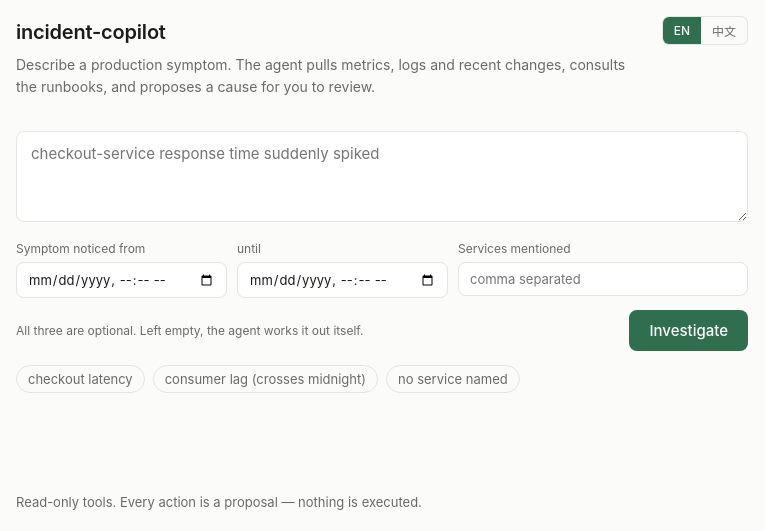
Test case: App › switches language and remembers the choice
Click the button "中文": (724, 30) left=701, top=17, right=747, bottom=44
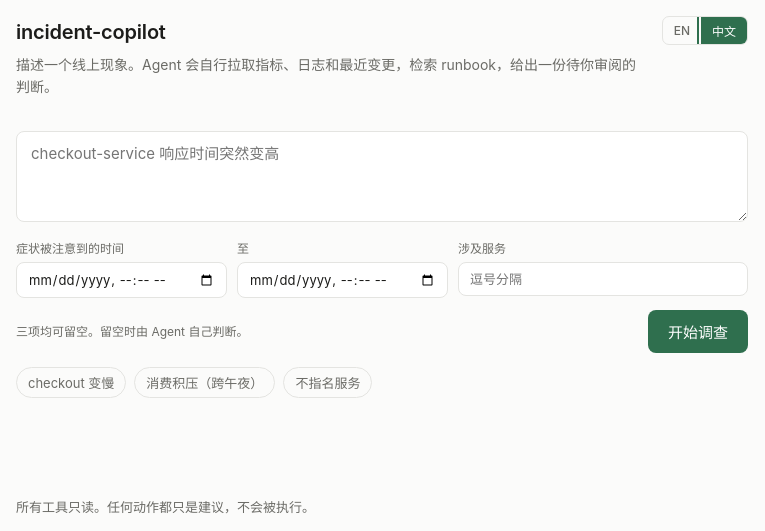
Check: the button "开始调查" is shown, box left=648, top=310, right=748, bottom=354
